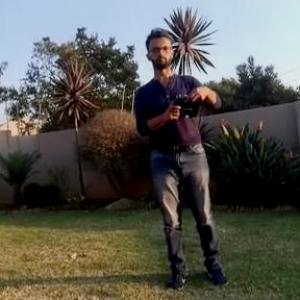follow: (132, 21, 235, 297)
